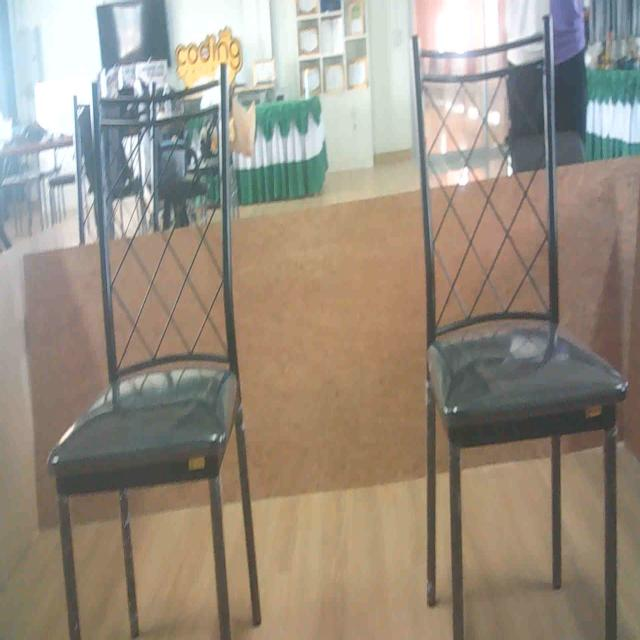empty: (410, 39, 626, 446), (38, 83, 246, 495)
